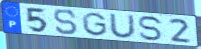2: (167, 18, 193, 43)
5: (24, 6, 49, 33)
G: (81, 12, 109, 37)
S: (137, 15, 165, 42), (52, 9, 80, 36)
U: (108, 13, 138, 40)
